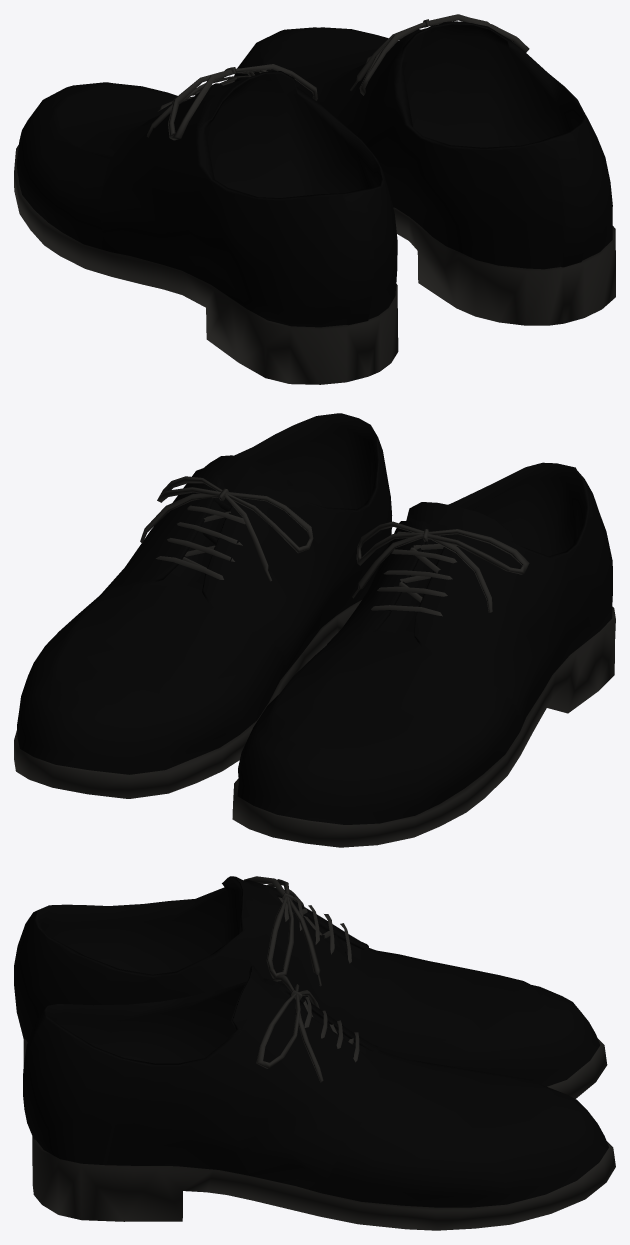
The model's file is frl_apartment_shoe_01.glb.
The picture shows the model from 3 angles, top to bottom: view 1: azimuth 30°, elevation 25°; view 2: azimuth 150°, elevation 25°; view 3: azimuth 270°, elevation 25°; orthographic projection. The views are drawn at different scales.
Parts seen in each view (by area): view 1: frl_apartment_shoe_01; view 2: frl_apartment_shoe_01; view 3: frl_apartment_shoe_01.
Part boxes in pixels (bbox=[...]): frl_apartment_shoe_01: bbox=[14, 14, 615, 384]; frl_apartment_shoe_01: bbox=[14, 413, 615, 847]; frl_apartment_shoe_01: bbox=[14, 876, 615, 1230].
Bounding box in the file's own units: 0.2624 × 0.127 × 0.3302.
1 material, 1 textured.
